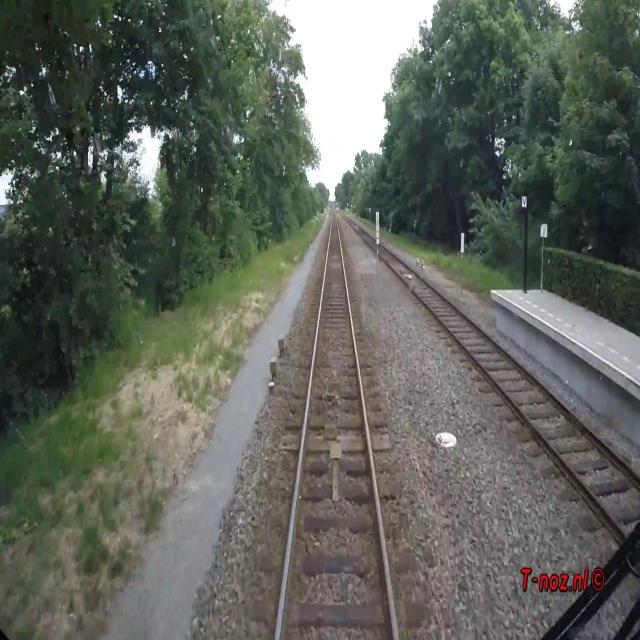rail-track: (378, 244, 640, 533), (279, 211, 394, 639)
